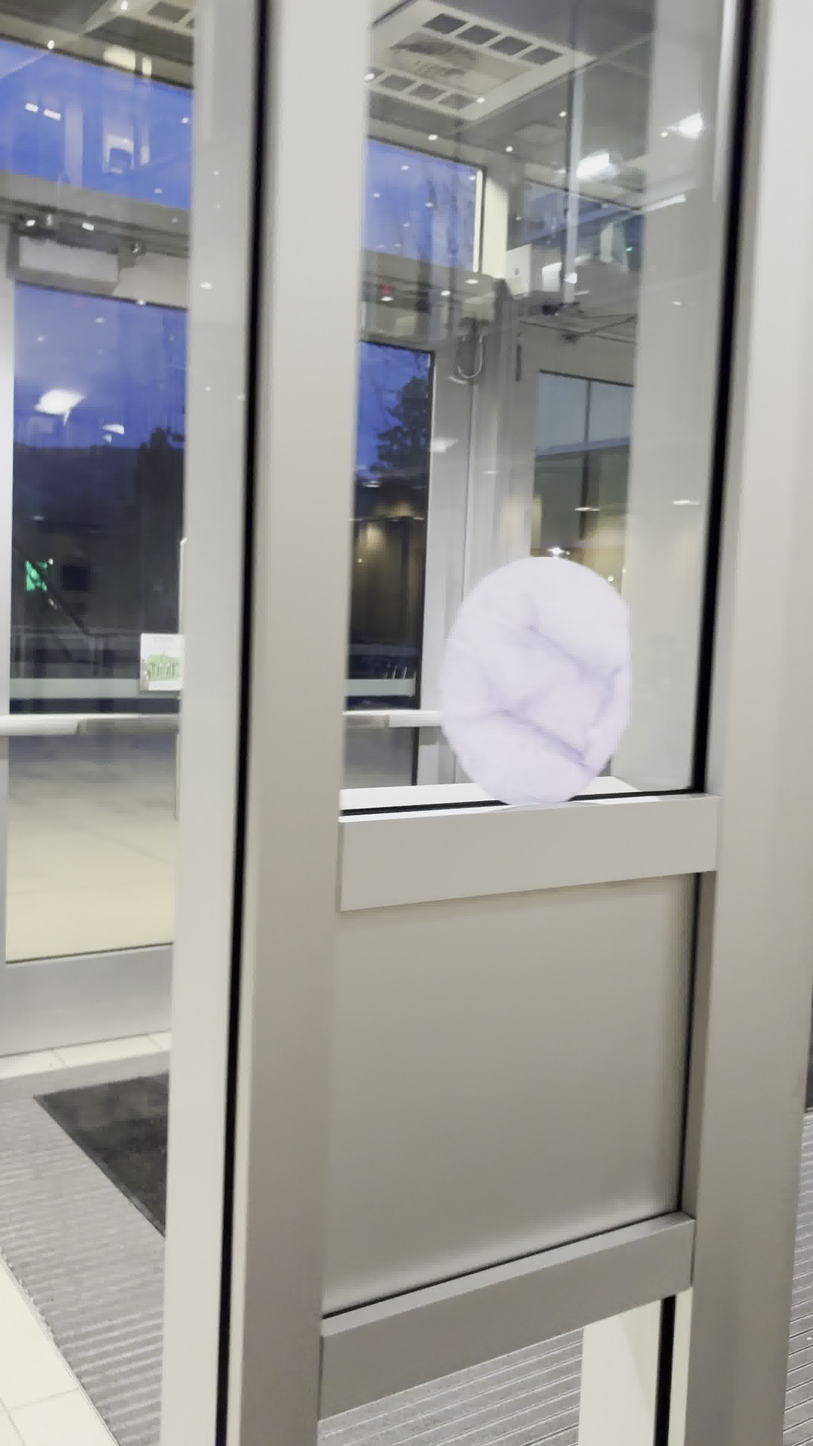Target: (438, 556, 634, 804)
